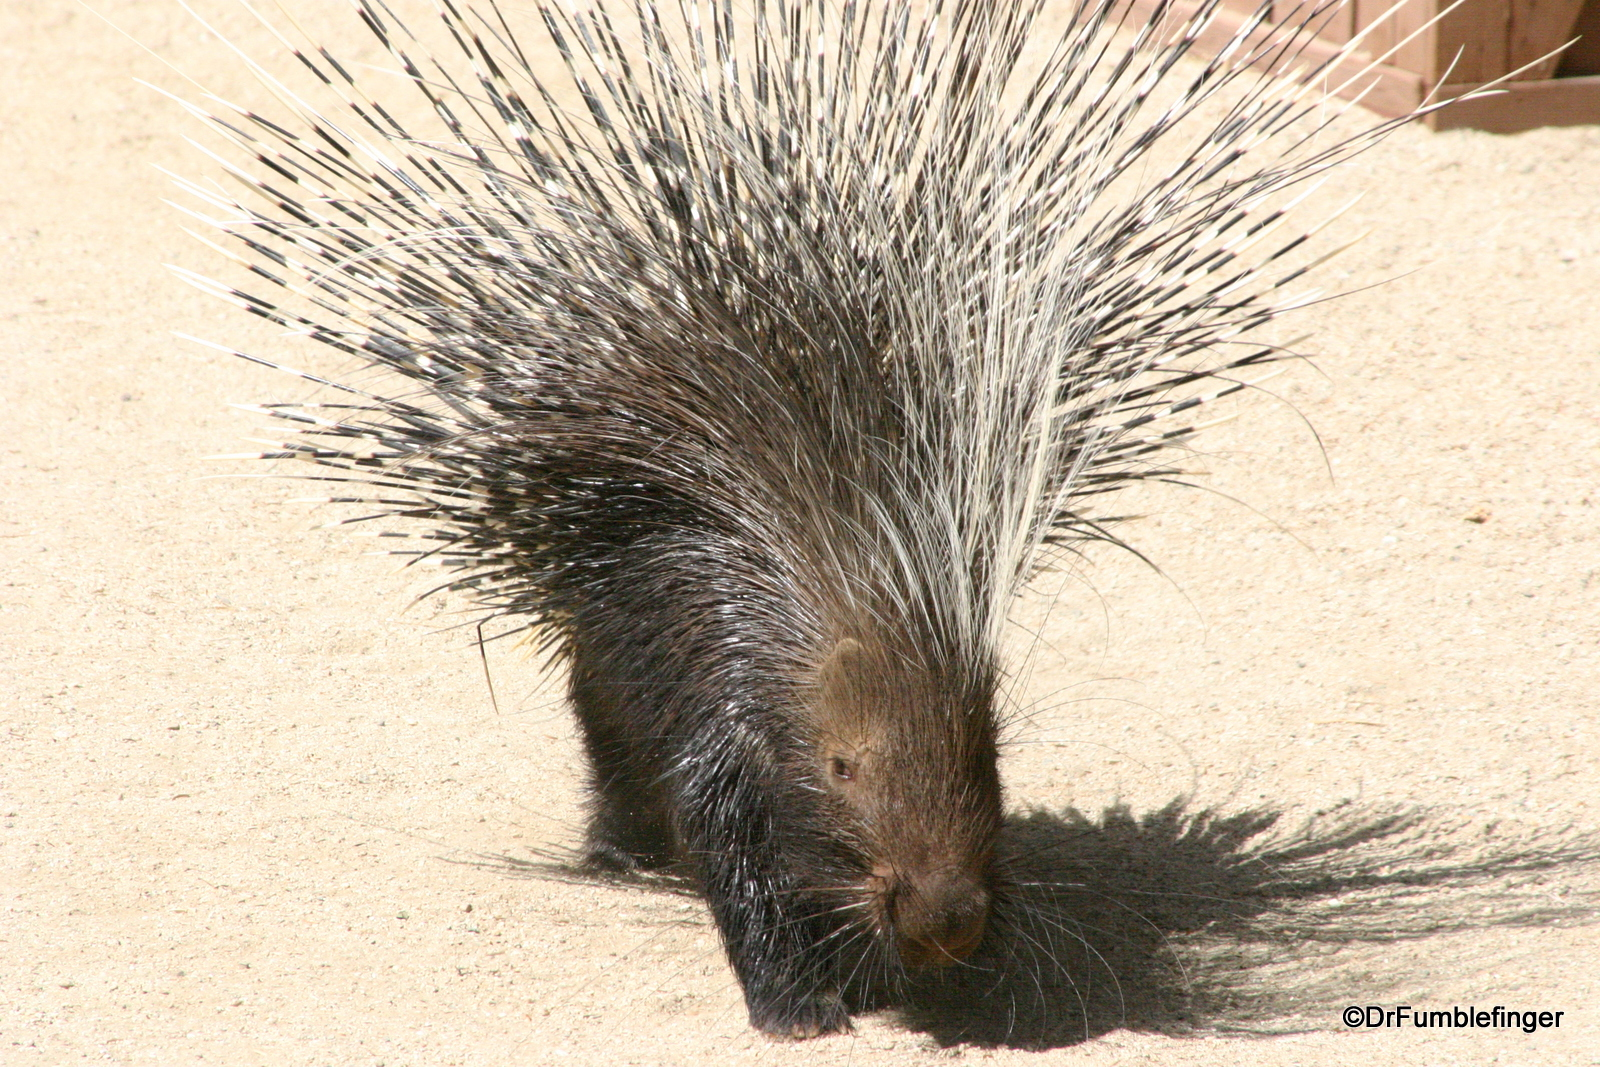porcupine: (119, 4, 1477, 1046)
